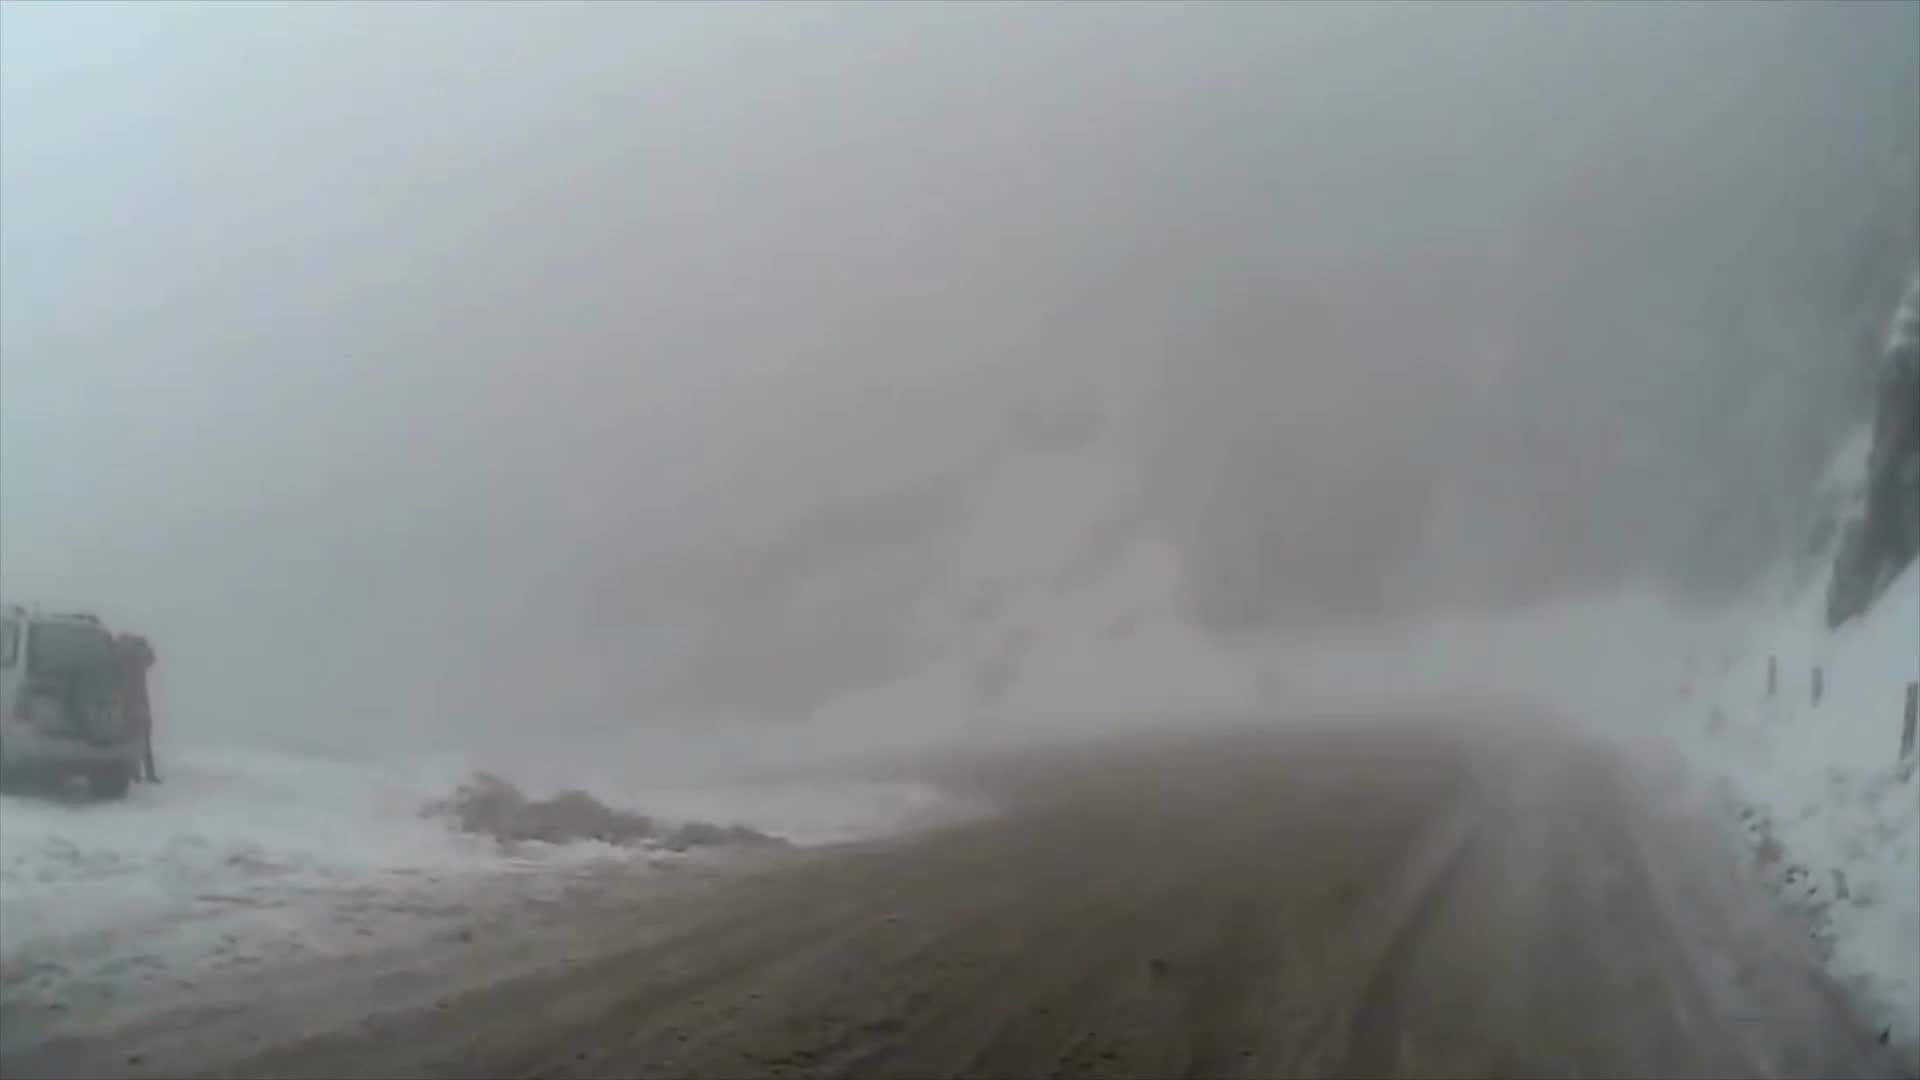vehicle: (0, 607, 142, 802)
